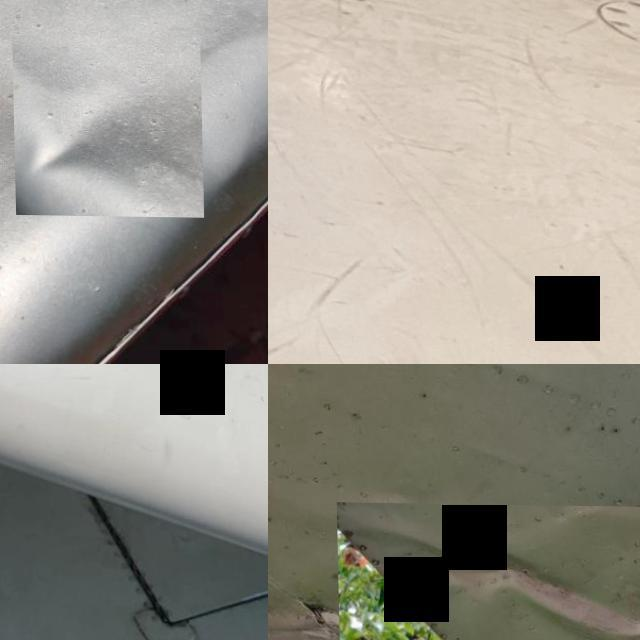Crack: (314, 600, 356, 622)
Dent: (335, 501, 640, 640), (11, 34, 202, 216)
